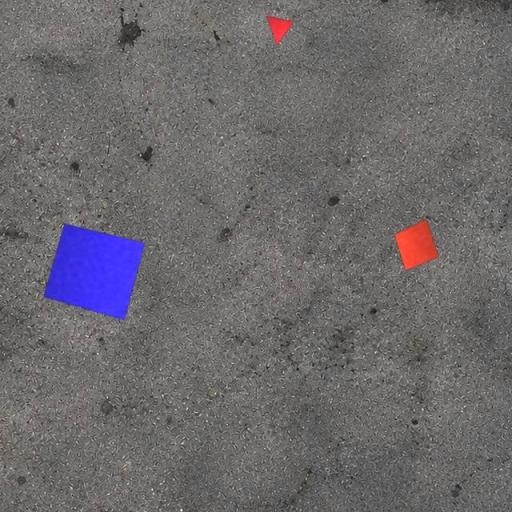BLUE_SQUARE: (42, 223, 146, 321)
RED_SQUARE: (394, 218, 439, 272)
